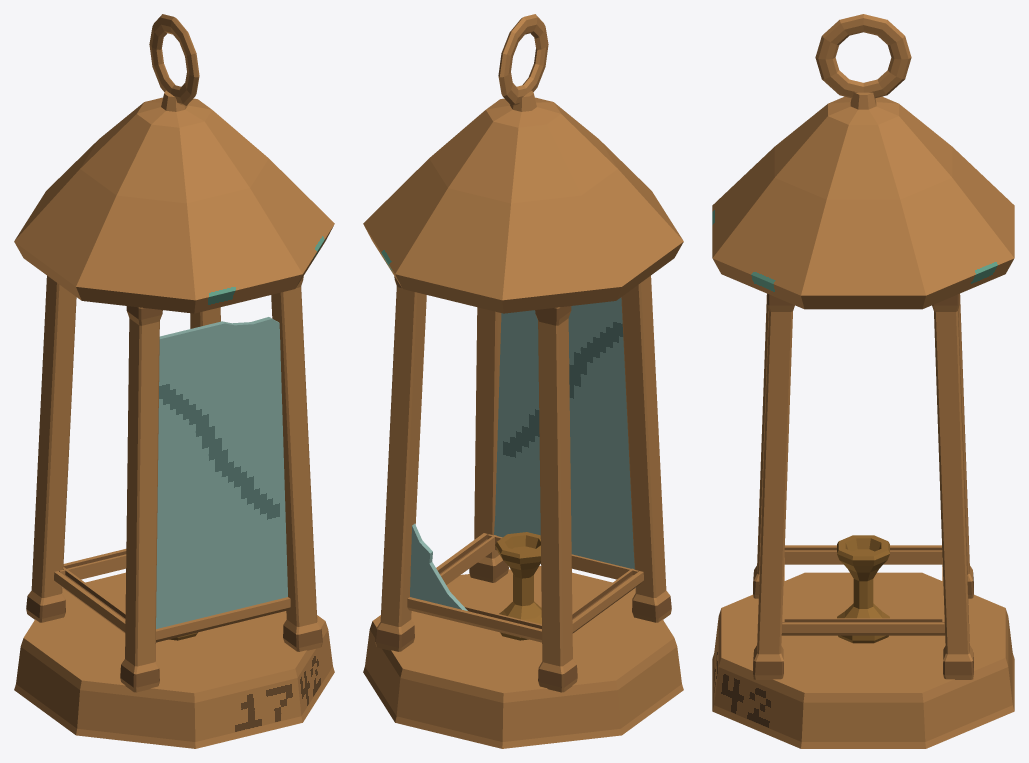
The model's file is 捞获-船尾铜灯.glb.
3 renders of one model, left to right at view 1: azimuth 30°, elevation 25°; view 2: azimuth 150°, elevation 25°; view 3: azimuth 270°, elevation 25°, orthographic.
Visible parts, largest first — view 1: metal_lantern, matte_lantern_glass; view 2: metal_lantern, matte_lantern_glass; view 3: metal_lantern.
Boxes of the visible parts, bbox=[...] form: metal_lantern: bbox=[14, 14, 334, 748]; matte_lantern_glass: bbox=[156, 317, 287, 628]; metal_lantern: bbox=[363, 14, 683, 748]; matte_lantern_glass: bbox=[410, 297, 634, 610]; metal_lantern: bbox=[712, 14, 1014, 748].
Bounding box in the file's own units: 0.3141 × 0.77 × 0.3141.
1 material, 1 textured.
